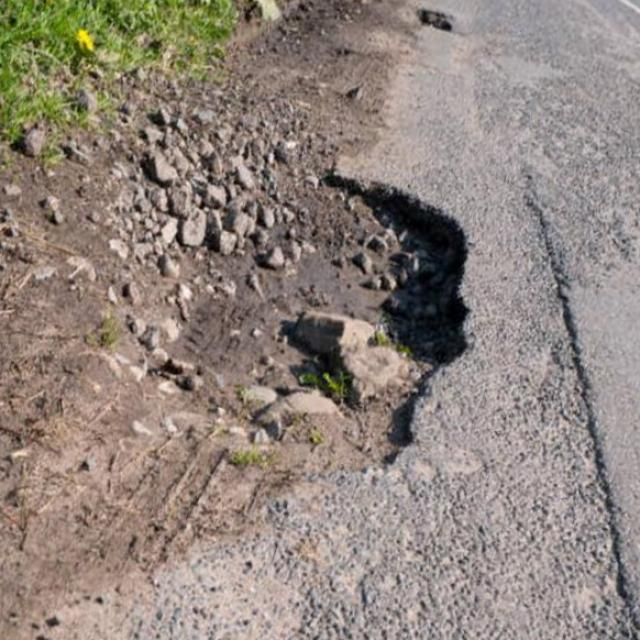Pinggir: (202, 146, 524, 514)
